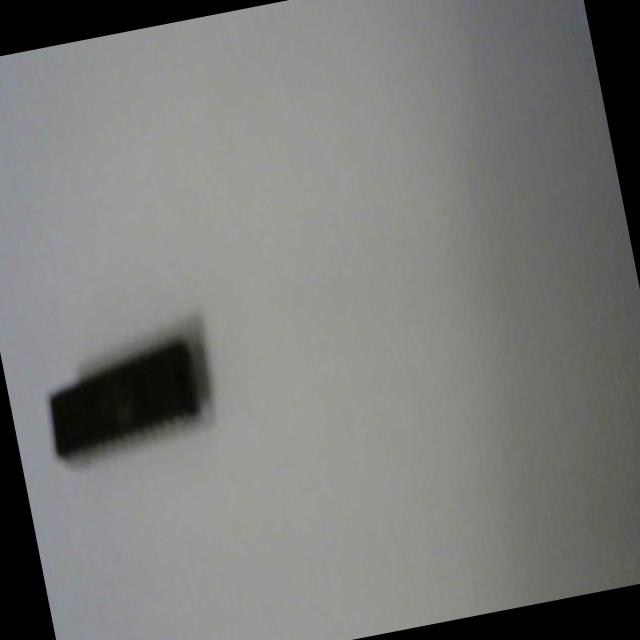atmega: (31, 315, 224, 472)
